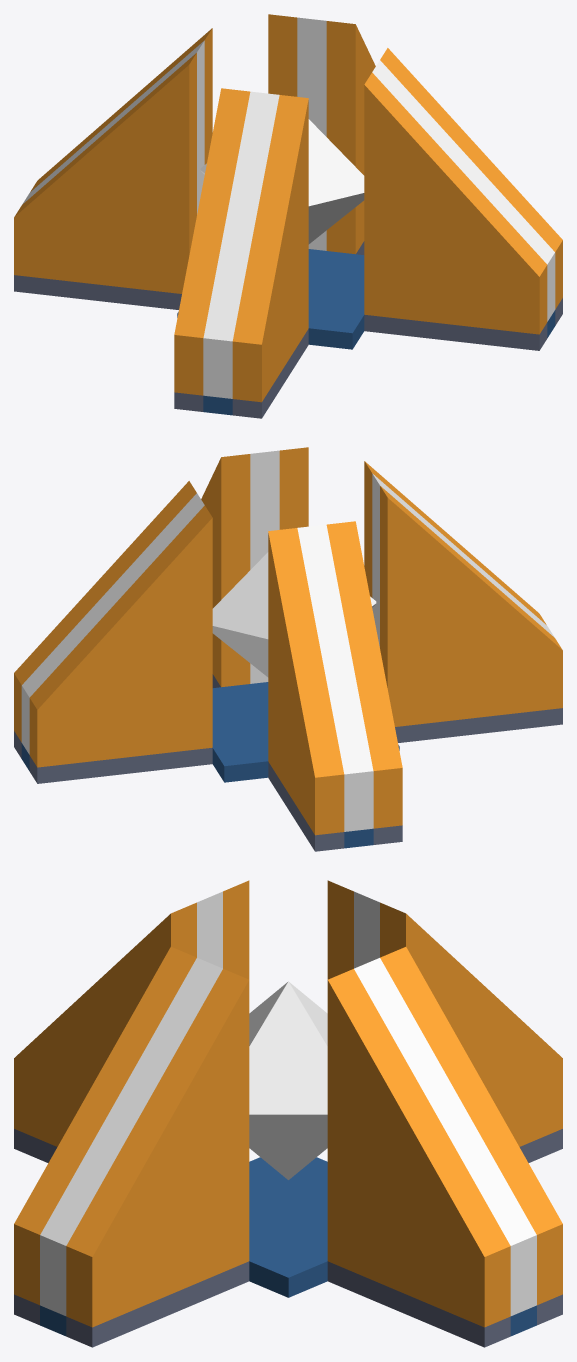
Rendered from Nexus.fbx.
3 renders of one model, top to bottom at view 1: azimuth 30°, elevation 25°; view 2: azimuth 150°, elevation 25°; view 3: azimuth 270°, elevation 25°, orthographic. The views are drawn at different scales.
Visible parts, largest first — view 1: Cube, Cube.005; view 2: Cube, Cube.005; view 3: Cube, Cube.005.
Part boxes in pixels (x1,y1,x2,y2): Cube: (14, 14, 562, 418); Cube.005: (200, 119, 364, 244); Cube: (14, 447, 562, 851); Cube.005: (212, 552, 376, 677); Cube: (14, 880, 562, 1347); Cube.005: (249, 981, 327, 1179).
Bounding box in the file's own units: 4.95 × 4.95 × 3.
